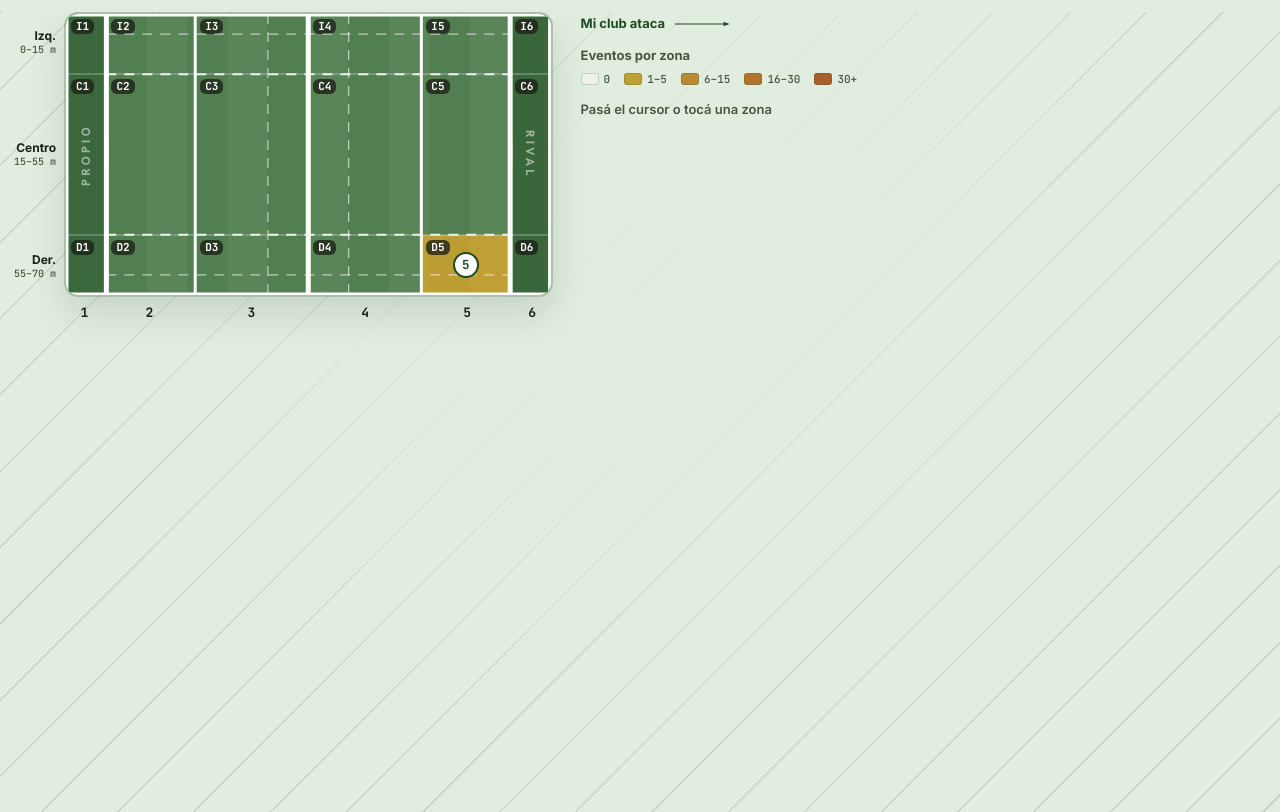
Test: RugbyFieldComponent › lectura de la zona apuntada › al pasar el cursor describe la zona y sus eventos
Hover over the cell with test id "zone-cell" showing "D5 5": (466, 265) [421,235,510,295]
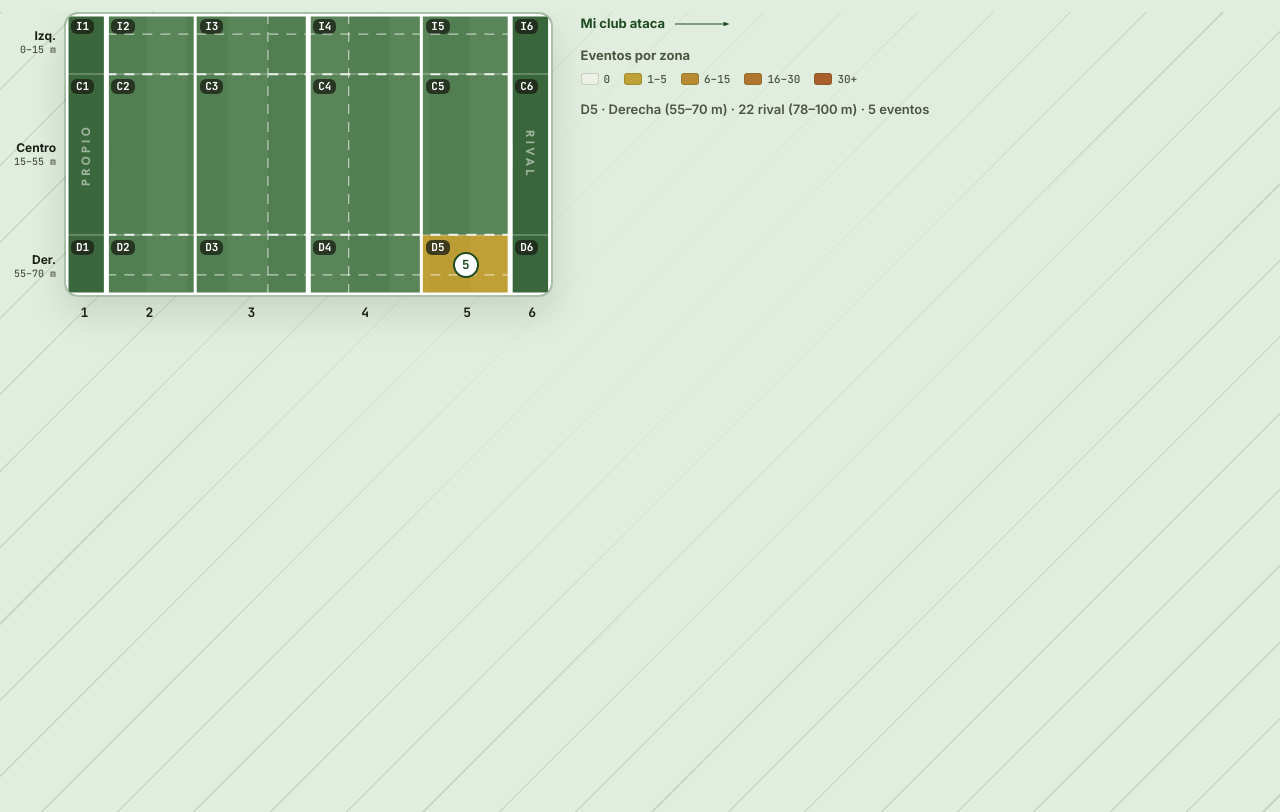
Expected: the text with test id "zone-reading" reads "D5 · Derecha (55–70 m) · 22 rival (78–100 m) · 5 eventos", [581,100,929,116]
